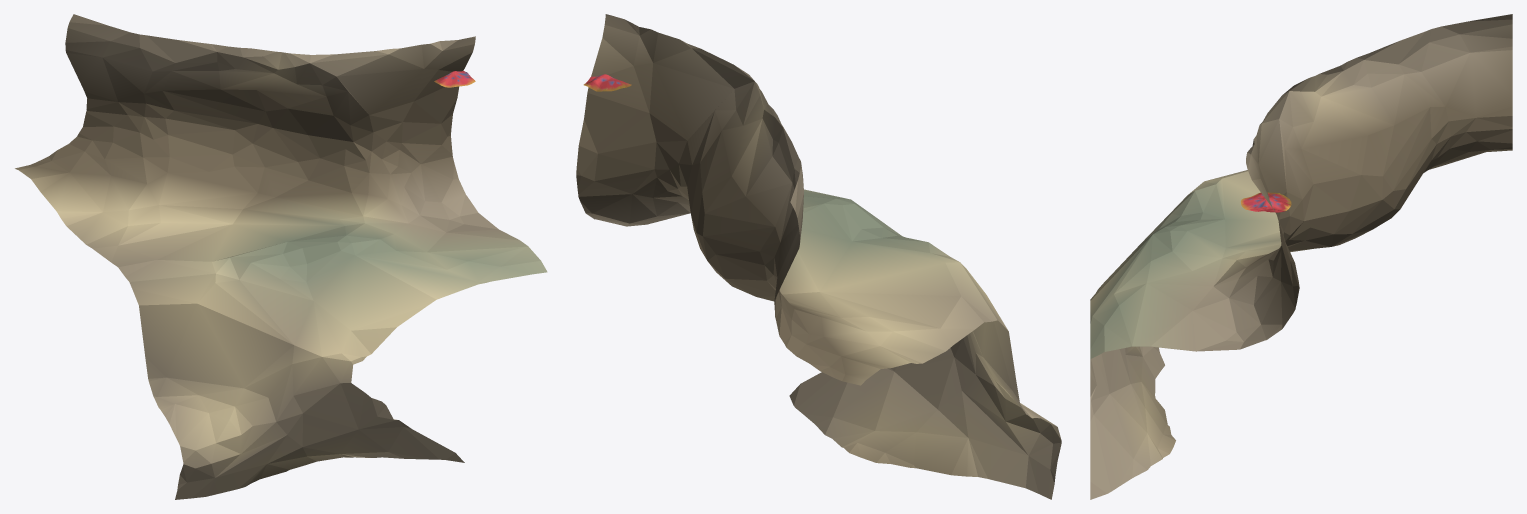
The model's file is bisect-3-5-10.gltf.
The picture shows the model from 3 angles, left to right: view 1: azimuth 30°, elevation 25°; view 2: azimuth 150°, elevation 25°; view 3: azimuth 270°, elevation 25°; orthographic projection. The views are drawn at different scales.
Parts seen in each view (by area): view 1: bisect-3-5-10; view 2: bisect-3-5-10; view 3: bisect-3-5-10.
Part boxes in pixels (left/top/right/bottom): bisect-3-5-10: left=15, top=14, right=547, bottom=499; bisect-3-5-10: left=576, top=14, right=1061, bottom=499; bisect-3-5-10: left=1090, top=14, right=1512, bottom=499.
Size of the model in its own units: 20 by 20 by 20.
